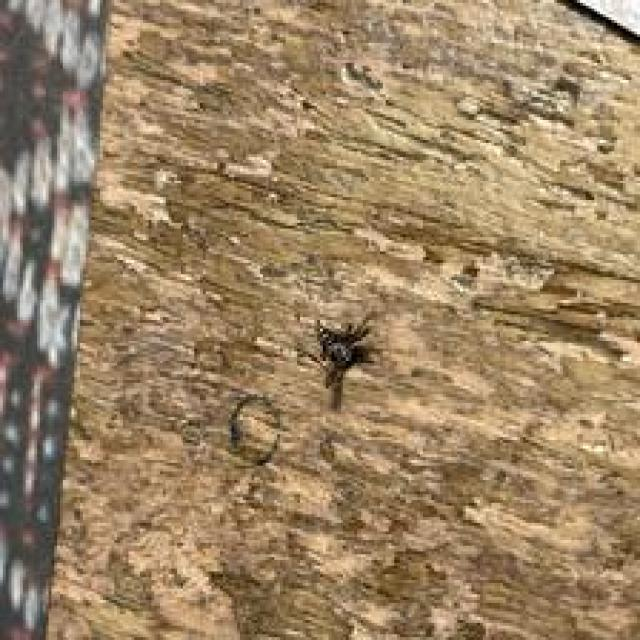Aedes albopictus: (296, 312, 381, 412)
